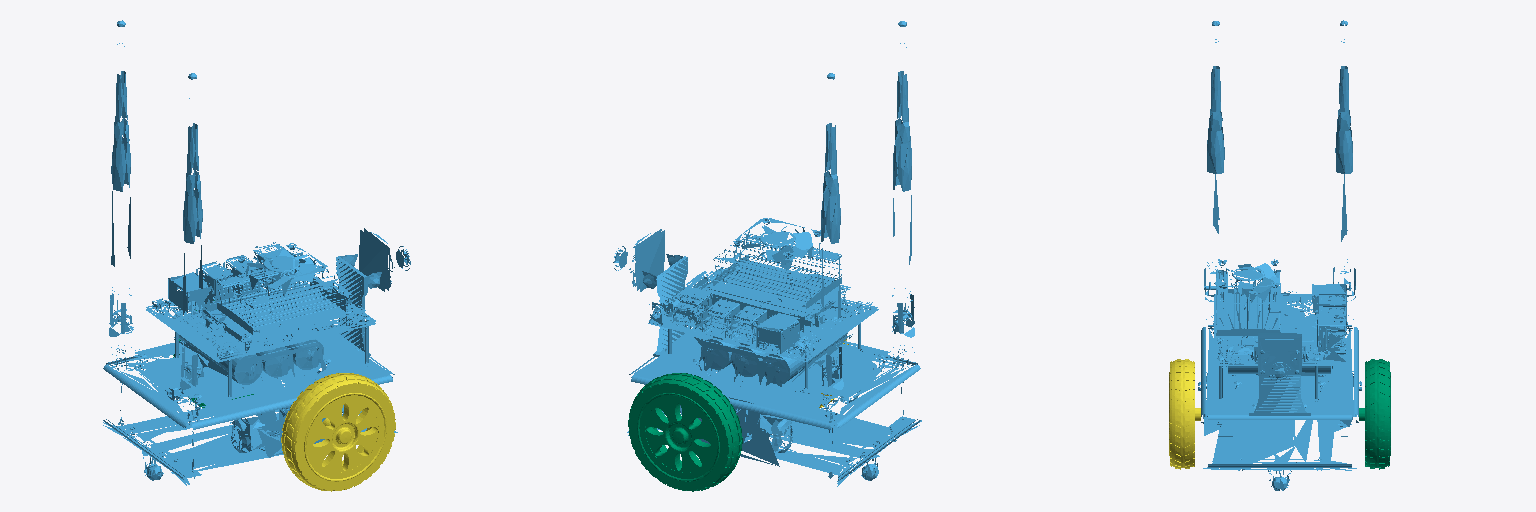
robot.urdf — jetbot:
<?xml version="1.0"?>
<!-- Generated by jetbot_twin.export from hardware.py. Do not edit: regenerate.
     base_link is at the middle of the axle; x forward, y left, z up. -->
<robot name="jetbot">
  <link name="base_footprint"/>
  <joint name="base_joint" type="fixed">
    <parent link="base_footprint"/><child link="base_link"/>
    <origin xyz="0 0 0.03250"/>
  </joint>
  <link name="base_link">
    <inertial>
      <origin xyz="-0.01880 -0.00037 0.02877"/>
      <mass value="0.6520"/>
      <inertia ixx="9.367e-04" iyy="1.410e-03" izz="1.483e-03" ixy="0" ixz="0" iyz="0"/>
    </inertial>
    <visual><geometry><mesh filename="meshes/body.stl"/></geometry></visual>
    <collision>
      <origin xyz="-0.022 0 0.00280"/>
      <geometry><box size="0.1336 0.0956 0.0351"/></geometry>
    </collision>
  </link>
  <link name="wheel_left">
    <inertial>
      <mass value="0.0340"/>
      <inertia ixx="1.089e-05" iyy="1.796e-05" izz="1.089e-05" ixy="0" ixz="0" iyz="0"/>
    </inertial>
    <visual><origin rpy="0 0 0"/><geometry><mesh filename="meshes/wheel.stl"/></geometry></visual>
    <collision><origin rpy="1.5708 0 0"/><geometry><cylinder radius="0.0325" length="0.026"/></geometry></collision>
  </link>
  <joint name="wheel_left_joint" type="continuous">
    <parent link="base_link"/><child link="wheel_left"/>
    <origin xyz="0 0.05745 0"/><axis xyz="0 1 0"/>
    <limit effort="0.4" velocity="50.3"/>
  </joint>
  <link name="wheel_right">
    <inertial>
      <mass value="0.0340"/>
      <inertia ixx="1.089e-05" iyy="1.796e-05" izz="1.089e-05" ixy="0" ixz="0" iyz="0"/>
    </inertial>
    <visual><origin rpy="0 0 3.14159"/><geometry><mesh filename="meshes/wheel.stl"/></geometry></visual>
    <collision><origin rpy="1.5708 0 0"/><geometry><cylinder radius="0.0325" length="0.026"/></geometry></collision>
  </link>
  <joint name="wheel_right_joint" type="continuous">
    <parent link="base_link"/><child link="wheel_right"/>
    <origin xyz="0 -0.05745 0"/><axis xyz="0 1 0"/>
    <limit effort="0.4" velocity="50.3"/>
  </joint>
  <link name="caster_front">
    <inertial><mass value="0.006"/><inertia ixx="1e-7" iyy="1e-7" izz="1e-7" ixy="0" ixz="0" iyz="0"/></inertial>
    <collision><geometry><sphere radius="0.00475"/></geometry></collision>
  </link>
  <joint name="caster_front_joint" type="fixed">
    <parent link="base_link"/><child link="caster_front"/>
    <origin xyz="0.03800 0.00000 -0.02775"/>
  </joint>
  <link name="caster_rear">
    <inertial><mass value="0.006"/><inertia ixx="1e-7" iyy="1e-7" izz="1e-7" ixy="0" ixz="0" iyz="0"/></inertial>
    <collision><geometry><sphere radius="0.00475"/></geometry></collision>
  </link>
  <joint name="caster_rear_joint" type="fixed">
    <parent link="base_link"/><child link="caster_rear"/>
    <origin xyz="-0.08200 0.00000 -0.02775"/>
  </joint>
  <link name="camera_link"/>
  <joint name="camera_joint" type="fixed">
    <parent link="base_link"/><child link="camera_link"/>
    <origin xyz="0.07460 0.00000 0.06420"/>
  </joint>
  <link name="camera_optical"/>
  <joint name="camera_optical_joint" type="fixed">
    <parent link="camera_link"/><child link="camera_optical"/>
    <origin rpy="-1.5708 0 -1.5708"/>
  </joint>
</robot>

--- What the picture shows (computed from the rendered views, not written in the file) ---
The picture shows the robot from 3 angles, left to right: view 1: azimuth 30°, elevation 25°; view 2: azimuth 150°, elevation 25°; view 3: azimuth 270°, elevation 25°; orthographic projection.
Model jetbot with 8 links and 7 joints (2 continuous, 5 fixed), rooted at base_footprint, posed all joints at 0.
Links seen in each view (by area): view 1: base_link, wheel_right; view 2: base_link, wheel_left; view 3: base_link, wheel_left, wheel_right.
Boxes of the visible links, <box> form: base_link: <box>103,20,410,485</box>; wheel_right: <box>281,373,395,491</box>; base_link: <box>613,21,921,486</box>; wheel_left: <box>628,373,742,491</box>; base_link: <box>1198,20,1361,490</box>; wheel_left: <box>1359,359,1390,469</box>; wheel_right: <box>1169,359,1200,469</box>.
Bounding box of the posed robot: 0.1663 × 0.1344 × 0.26 m (x, y, z).
3 mesh visuals loaded from 2 distinct referenced files (2 binary STL).
